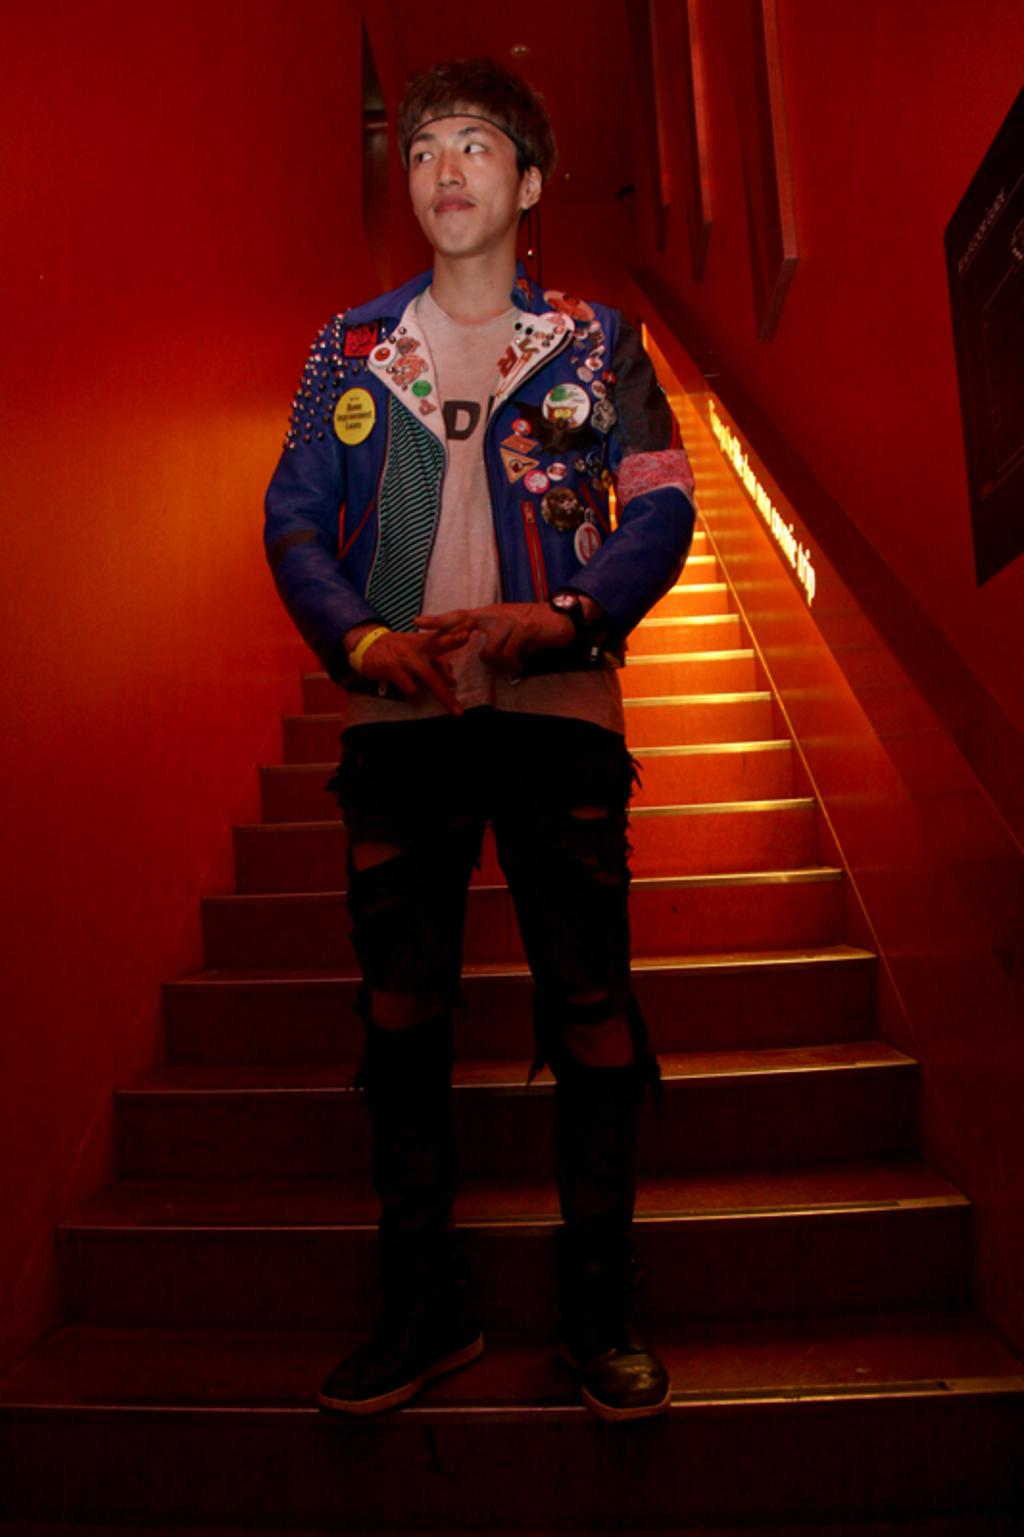face: (411, 99, 513, 252)
